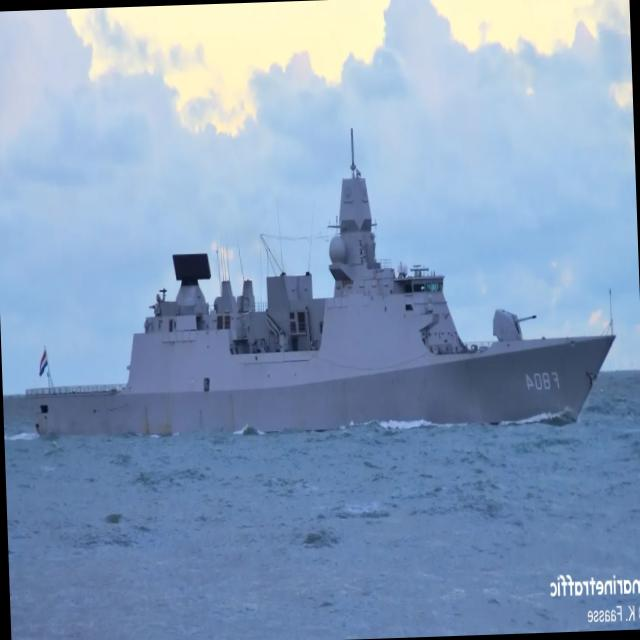Military: (33, 147, 615, 434)
